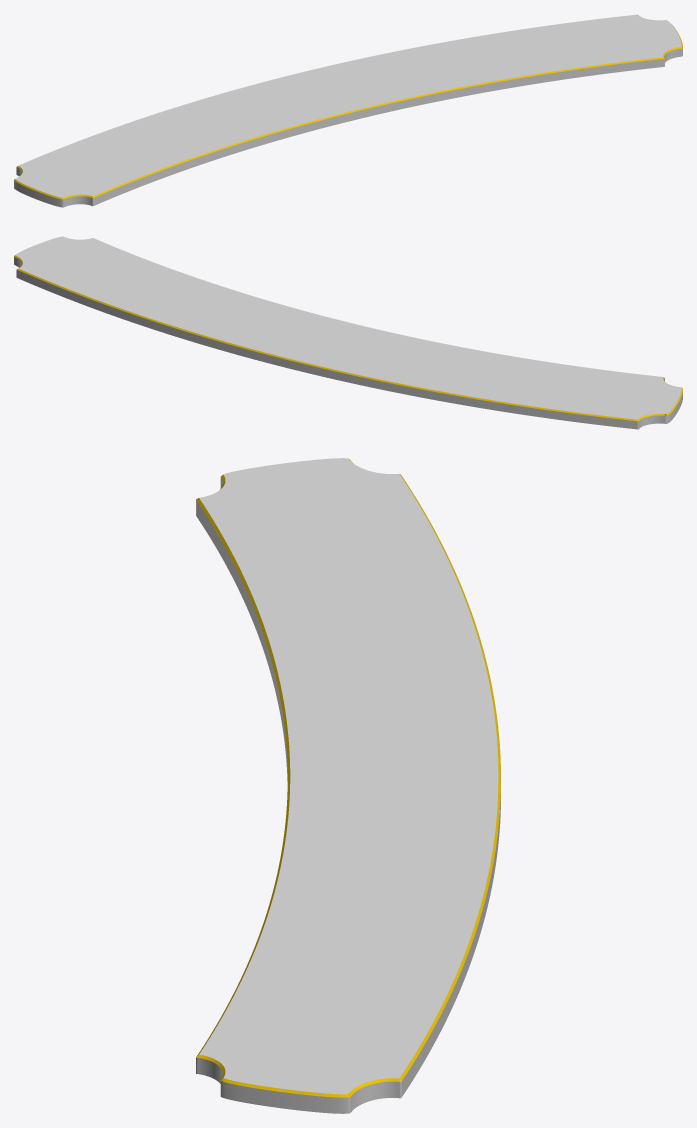
Rendered from The MarkFlow.glb.
3 views of the same model, one above another, from view 1: azimuth 30°, elevation 25°; view 2: azimuth 150°, elevation 25°; view 3: azimuth 270°, elevation 25° (orthographic). The views are drawn at different scales.
Visible parts, largest first — view 1: BORDERS_curve_.009, BORDERS_curve_.027; view 2: BORDERS_curve_.009, BORDERS_curve_.027; view 3: BORDERS_curve_.009, BORDERS_curve_.027.
Part boxes in pixels (x1,y1,x2,y2): BORDERS_curve_.009: (14, 14, 682, 207); BORDERS_curve_.027: (14, 24, 682, 199); BORDERS_curve_.009: (14, 236, 682, 429); BORDERS_curve_.027: (14, 255, 682, 421); BORDERS_curve_.009: (196, 458, 500, 1113); BORDERS_curve_.027: (196, 459, 500, 1097).
Bounding box in the file's own units: 39.03 × 0.5281 × 7.89.
